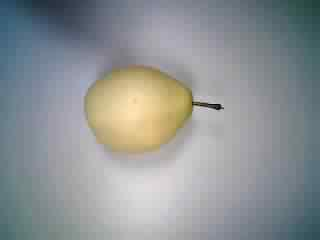pear: (77, 56, 232, 161)
